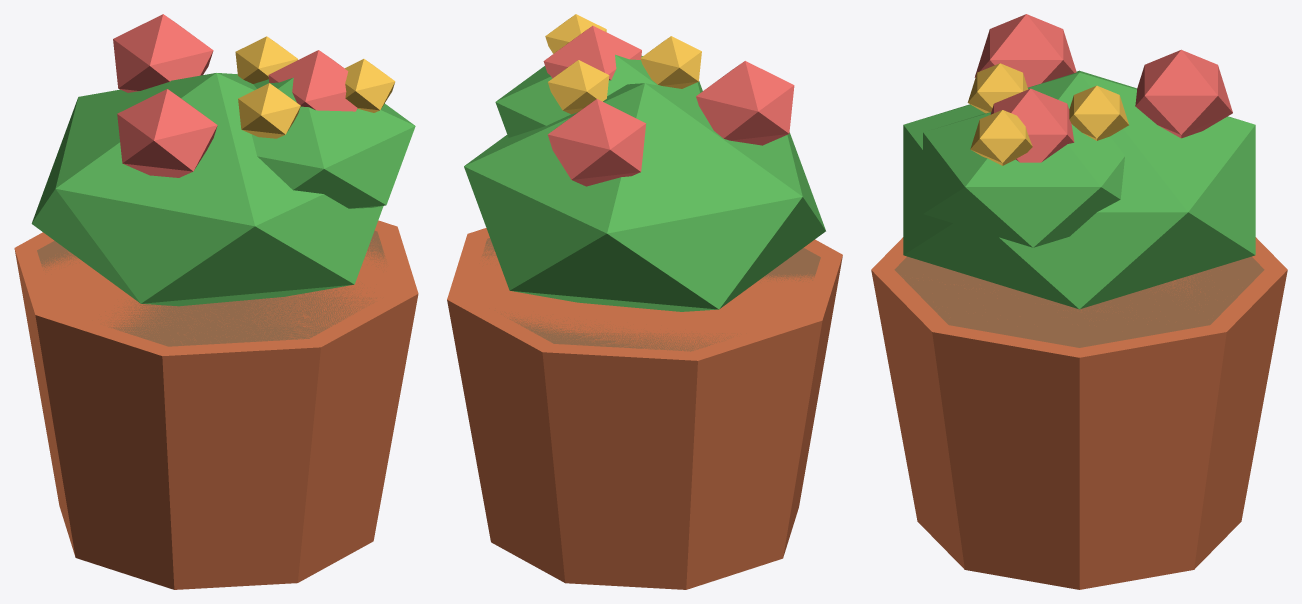
The model's file is plant_flower_pot.glb.
3 renders of one model, left to right at view 1: azimuth 30°, elevation 25°; view 2: azimuth 150°, elevation 25°; view 3: azimuth 270°, elevation 25°, orthographic. The views are drawn at different scales.
Visible parts, largest first — view 1: plant_flower_pot; view 2: plant_flower_pot; view 3: plant_flower_pot.
Part boxes in pixels (x1,y1,x2,y2): plant_flower_pot: (14, 14, 418, 589); plant_flower_pot: (447, 14, 842, 589); plant_flower_pot: (871, 14, 1287, 589).
Size of the model in its own units: 0.09 by 0.1122 by 0.09.
